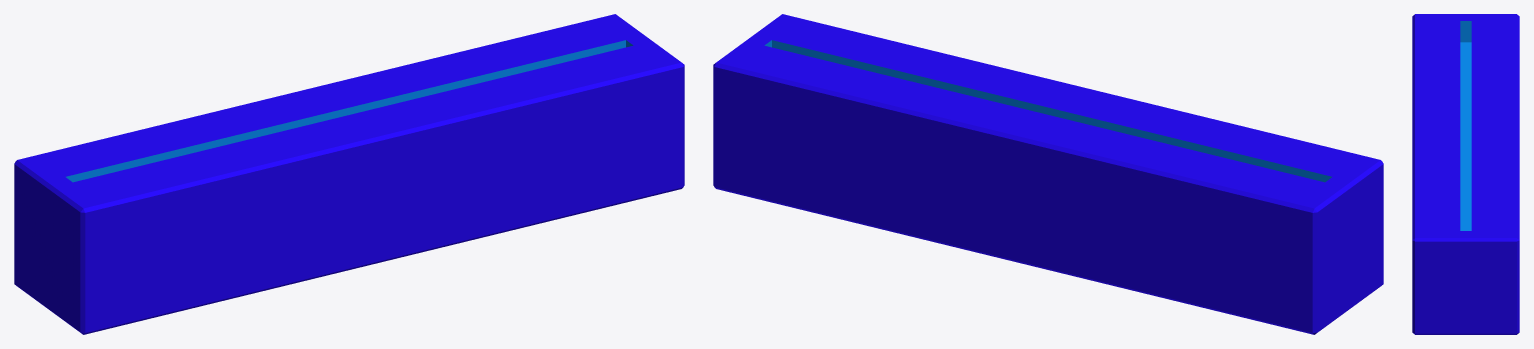
Rendered from SM_TitleProjector.FBX.
3 renders of one model, left to right at view 1: azimuth 30°, elevation 25°; view 2: azimuth 150°, elevation 25°; view 3: azimuth 270°, elevation 25°, orthographic. The views are drawn at different scales.
Parts seen in each view (by area): view 1: Box010; view 2: Box010; view 3: Box010.
Part boxes in pixels (x1,y1,x2,y2): Box010: (14, 14, 684, 334); Box010: (713, 14, 1383, 334); Box010: (1412, 14, 1519, 334).
Bounding box in the file's own units: 20 × 4 × 4.
